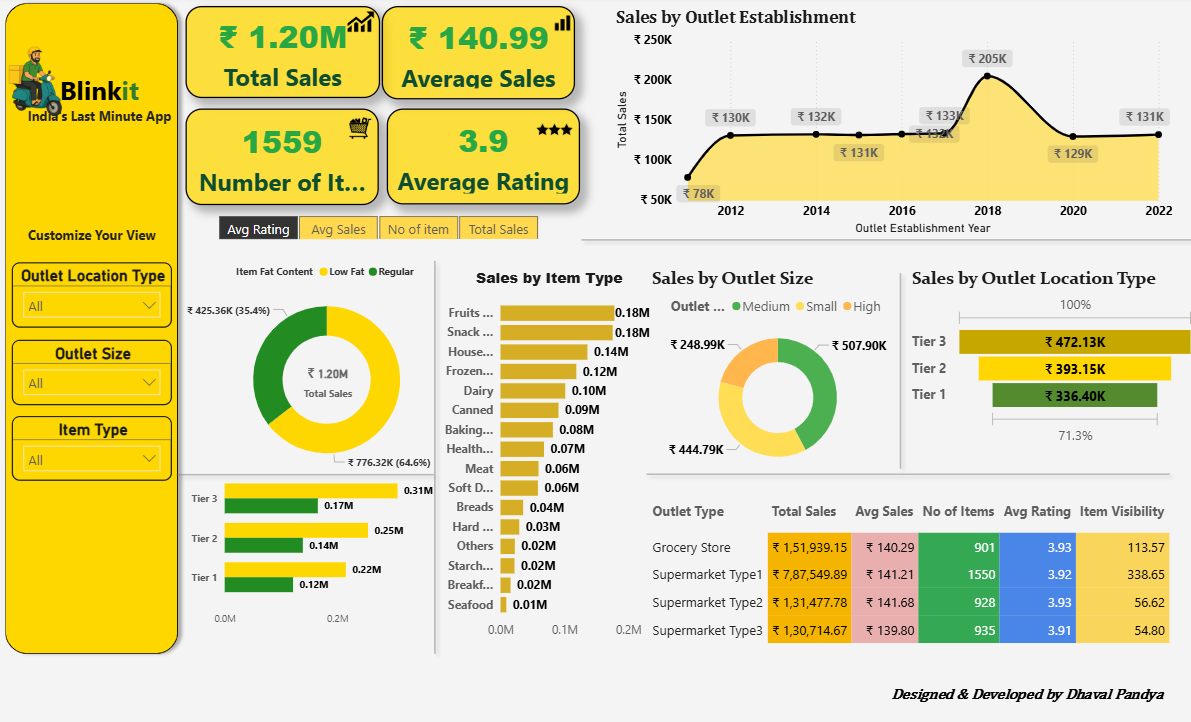

Layout of this report page (visuals, bound fields, positions):
{"tool":"powerbi","page":{"name":"Page 1","canvas":[1480,920],"ordinal":0},"visuals":[{"type":"shape","box":[0,0,230.8,820.3],"z":0},{"type":"textbox","box":[26.1,89.3,197.9,109.9],"z":1000},{"type":"textbox","box":[16.5,278.9,197.9,41.2],"z":2000},{"type":"slicer","title":"Outlet Location Type","fields":{"Values":["BlinkIT Grocery Data.Outlet Location Type"]},"box":[16.5,328.4,197.9,81.1],"z":3000},{"type":"slicer","title":"Outlet Size","fields":{"Values":["BlinkIT Grocery Data.Outlet Size"]},"box":[16.5,423.2,197.9,81.1],"z":4000},{"type":"slicer","title":"Item Type","fields":{"Values":["BlinkIT Grocery Data.Item Type"]},"box":[16.5,518,197.9,79.7],"z":5000},{"type":"card","fields":{"Values":["BlinkIT Grocery Data.Total Sales"]},"box":[230.5,12.3,240.1,113.9],"z":6000},{"type":"image","box":[415.8,9.6,63.1,45.3],"z":7000},{"type":"card","fields":{"Values":["BlinkIT Grocery Data.Average Sales"]},"box":[473.4,12.3,238.8,115.3],"z":8000},{"type":"image","box":[679.2,17.8,32.9,30.2],"z":9000},{"type":"card","fields":{"Values":["BlinkIT Grocery Data.Number of Items"]},"box":[231.9,138.6,238.8,119.4],"z":10000},{"type":"image","box":[422.6,144.1,48,39.8],"z":11000},{"type":"card","fields":{"Values":["BlinkIT Grocery Data.Average Rating"]},"box":[478.9,138.6,238.8,118],"z":12000},{"type":"image","box":[655.9,135.8,61.7,57.6],"z":13000},{"type":"slicer","fields":{"Values":["MeasureSelection.MeasureName"]},"box":[250.1,263.8,436.9,35.7],"z":14000},{"type":"donutChart","fields":{"Y":["BlinkIT Grocery Data.Total Sales"],"Category":["BlinkIT Grocery Data.Item Fat Content"]},"box":[197.9,320.1,416.3,277.5],"z":15000},{"type":"card","fields":{"Values":["BlinkIT Grocery Data.Total Sales"]},"box":[362.7,445.2,89.3,59.1],"z":16000},{"type":"clusteredBarChart","fields":{"Category":["BlinkIT Grocery Data.Outlet Location Type"],"Series":["BlinkIT Grocery Data.Item Fat Content"],"Y":["Sum(BlinkIT Grocery Data.Sales)"]},"box":[232.2,568.8,325.6,217.1],"z":17000},{"type":"clusteredBarChart","title":"Sales by Item Type","fields":{"Category":["BlinkIT Grocery Data.Item Type"],"Y":["Sum(BlinkIT Grocery Data.Sales)"]},"box":[534.9,334.5,289.8,468.6],"z":18000},{"type":"shape","box":[211.6,557.8,335.3,64.6],"z":19000},{"type":"shape","box":[525.7,317.6,26.2,502.5],"z":20000},{"type":"image","box":[0,45.3,125,118.2],"z":21000},{"type":"areaChart","title":"Sales by Outlet Establishment","fields":{"Y":["BlinkIT Grocery Data.Total Sales"],"Category":["BlinkIT Grocery Data.Outlet Establishment Year"]},"box":[756.8,12.7,696.5,287.2],"z":22000},{"type":"donutChart","title":"Sales by Outlet Size","fields":{"Category":["BlinkIT Grocery Data.Outlet Size"],"Y":["BlinkIT Grocery Data.Total Sales"]},"box":[801.2,334.8,320.5,263.4],"z":23000},{"type":"funnel","title":"Sales by Outlet Location Type","fields":{"Category":["BlinkIT Grocery Data.Outlet Location Type"],"Y":["BlinkIT Grocery Data.Total Sales"]},"box":[1121.7,334.8,358.6,223.7],"z":24000},{"type":"shape","box":[1103.8,333,18.5,259],"z":25000},{"type":"tableEx","fields":{"Values":["BlinkIT Grocery Data.Outlet Type","BlinkIT Grocery Data.Total Sales","BlinkIT Grocery Data.Average Sales","BlinkIT Grocery Data.Number of Items","BlinkIT Grocery Data.Average Rating","Sum(BlinkIT Grocery Data.Item Visibility)"]},"box":[787,602.9,693.4,217.4],"z":26000},{"type":"shape","box":[710.8,268.1,769.5,65.1],"z":27000},{"type":"shape","box":[790.1,558.5,663.2,63.5],"z":28000},{"type":"textbox","box":[1096.4,844.1,366.5,57.1],"z":29000}]}

Visuals, with their boxes in screenshot pixels (x1, y1, x2, y2), scaled from the page's 1480x920 canvas onto the 1191x722 screenshot:
shape: 0,0,186,644
textbox: 21,70,180,156
textbox: 13,219,173,251
"Outlet Location Type" slicer: 13,258,173,321
"Outlet Size" slicer: 13,332,173,396
"Item Type" slicer: 13,407,173,469
card - BlinkIT Grocery Data.Total Sales: 185,10,379,99
image: 335,8,385,43
card - BlinkIT Grocery Data.Average Sales: 381,10,573,100
image: 547,14,573,38
card - BlinkIT Grocery Data.Number of Items: 187,109,379,202
image: 340,113,379,144
card - BlinkIT Grocery Data.Average Rating: 385,109,578,201
image: 528,107,577,152
slicer - MeasureSelection.MeasureName: 201,207,553,235
donutChart - BlinkIT Grocery Data.Total Sales x BlinkIT Grocery Data.Item Fat Content: 159,251,494,469
card - BlinkIT Grocery Data.Total Sales: 292,349,364,396
clusteredBarChart - BlinkIT Grocery Data.Outlet Location Type x BlinkIT Grocery Data.Item Fat Content: 187,446,449,617
"Sales by Item Type" clusteredBarChart: 430,263,664,630
shape: 170,438,440,488
shape: 423,249,444,644
image: 0,36,101,128
"Sales by Outlet Establishment" areaChart: 609,10,1170,235
"Sales by Outlet Size" donutChart: 645,263,903,469
"Sales by Outlet Location Type" funnel: 903,263,1190,438
shape: 888,261,903,465
tableEx - BlinkIT Grocery Data.Outlet Type x BlinkIT Grocery Data.Total Sales: 633,473,1190,644
shape: 572,210,1190,261
shape: 636,438,1170,488
textbox: 882,662,1177,707
